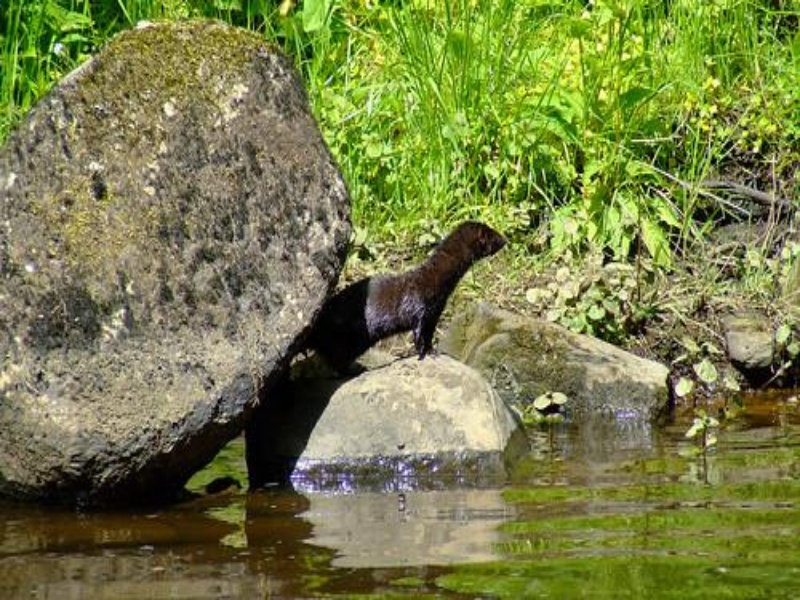minkish: (276, 218, 507, 383)
